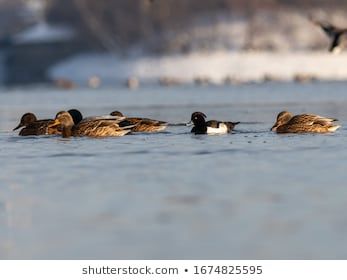duck: (265, 102, 347, 148), (179, 101, 256, 148)
